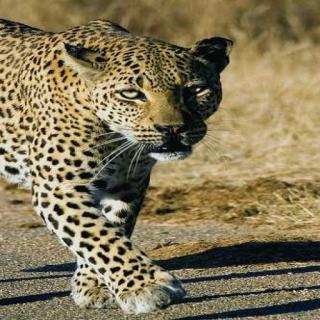Leopard: (0, 8, 249, 314)
